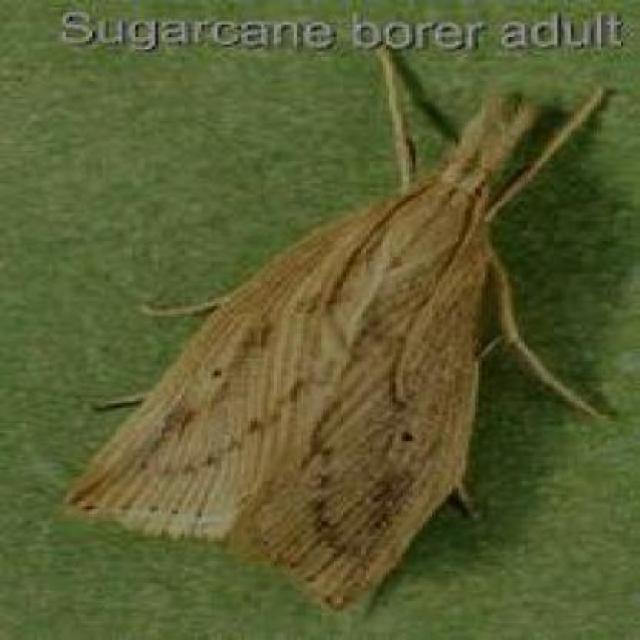stem-borer: (57, 63, 628, 619)
